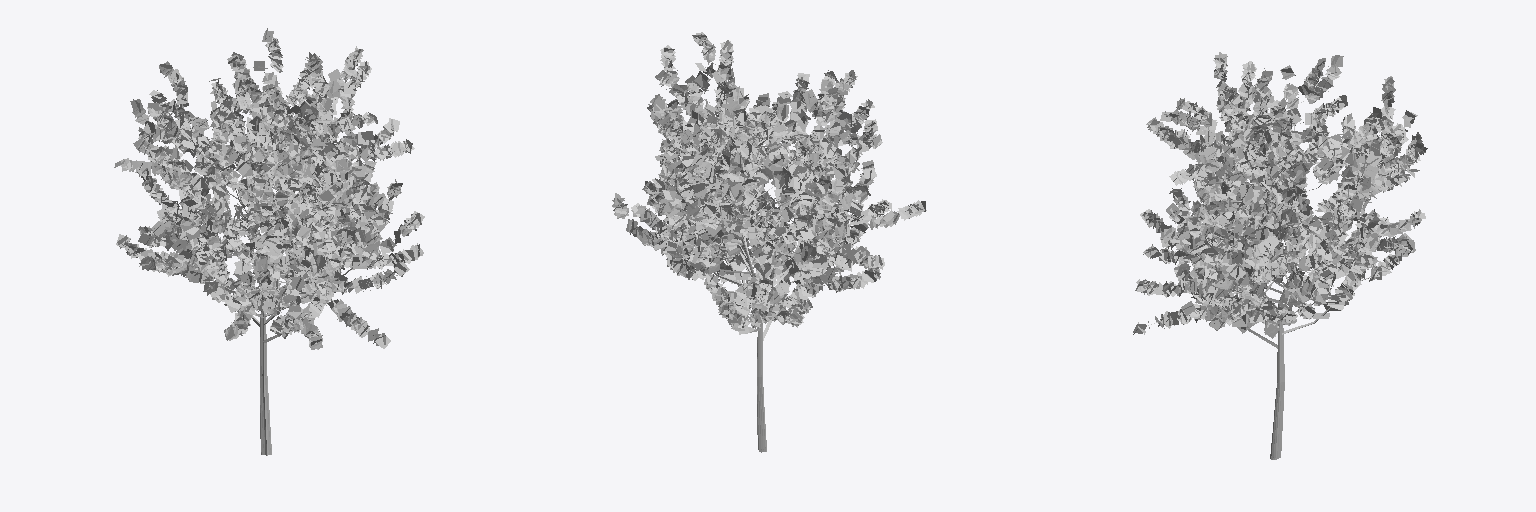
3 views of the same model, side by side, from view 1: azimuth 30°, elevation 25°; view 2: azimuth 150°, elevation 25°; view 3: azimuth 270°, elevation 25° (orthographic).
Parts seen in each view (by area): view 1: trunk; view 2: trunk; view 3: trunk.
Boxes of the visible parts, <box> form: trunk: <box>114,28,424,455</box>; trunk: <box>612,32,926,452</box>; trunk: <box>1133,52,1427,459</box>.
Bounding box in the file's own units: 14.05 × 19.22 × 12.98.